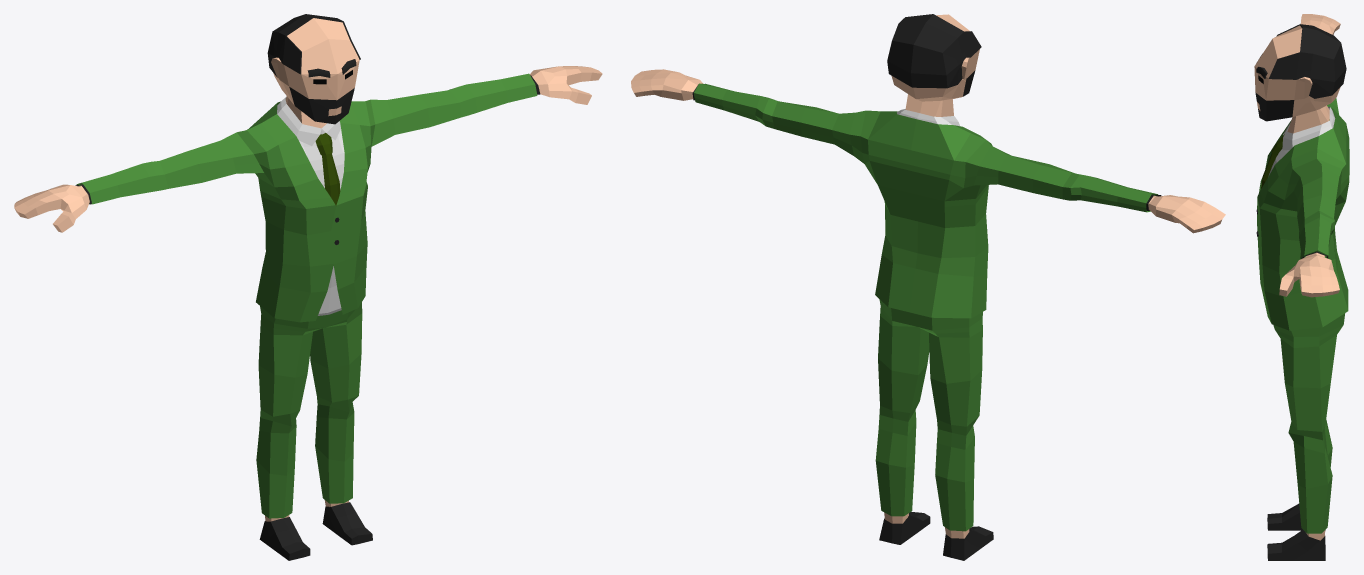
The model's file is NPC_VerdeClaro_Corbata.fbx.
The picture shows the model from 3 angles, left to right: view 1: azimuth 30°, elevation 25°; view 2: azimuth 150°, elevation 25°; view 3: azimuth 270°, elevation 25°; orthographic projection. The views are drawn at different scales.
Visible parts, largest first — view 1: Personaje; view 2: Personaje; view 3: Personaje.
Part boxes in pixels (bbox=[...]): Personaje: bbox=[14, 14, 602, 560]; Personaje: bbox=[631, 14, 1225, 560]; Personaje: bbox=[1254, 14, 1349, 560].
Bounding box in the file's own units: 215 × 184 × 30.94.
